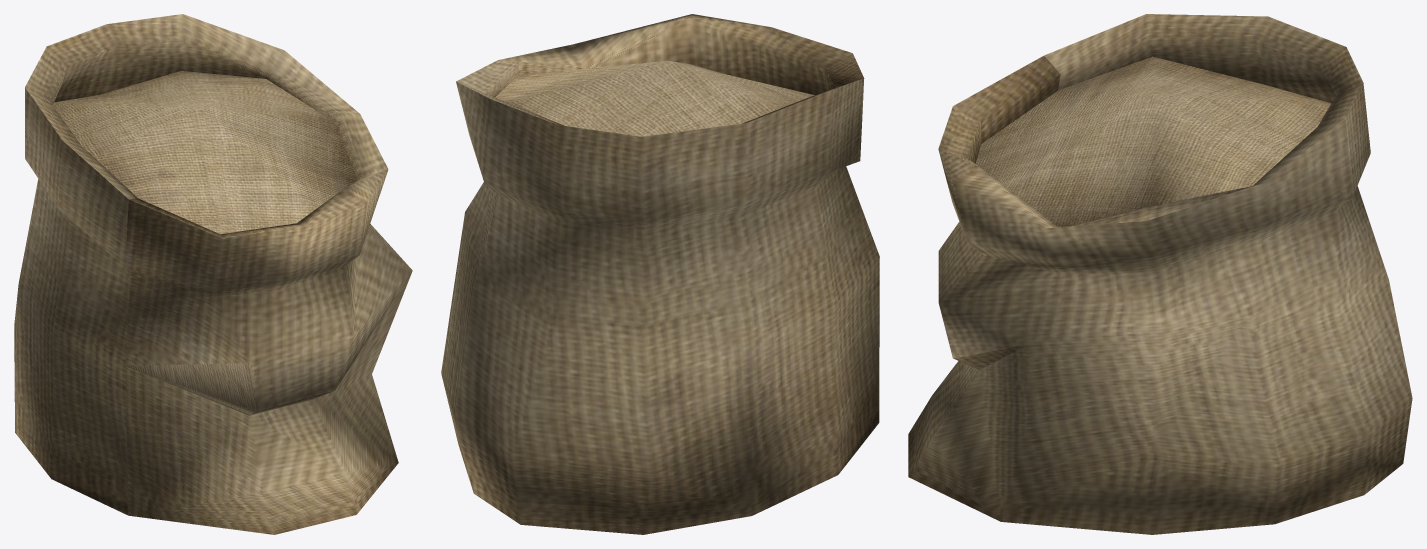
File: sack_1.fbx
3 renders of one model, left to right at view 1: azimuth 30°, elevation 25°; view 2: azimuth 150°, elevation 25°; view 3: azimuth 270°, elevation 25°, orthographic. The views are drawn at different scales.
Visible parts, largest first — view 1: sack_1_LOD0; view 2: sack_1_LOD0; view 3: sack_1_LOD0.
Part boxes in pixels (x1,y1,x2,y2): sack_1_LOD0: (14, 14, 412, 534); sack_1_LOD0: (441, 14, 879, 534); sack_1_LOD0: (908, 14, 1412, 534).
Size of what is drawn, in the model's own units: 0.4826 by 0.521 by 0.6368.
